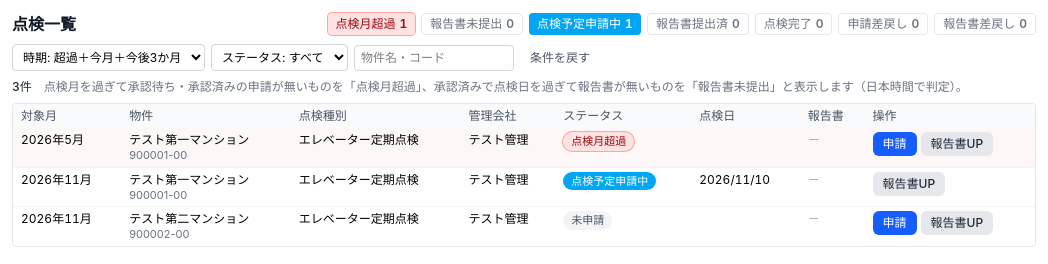
Test: 点検一覧（InspectionPortal） › ステータスの件数バッジを押すと、そのステータスの行だけになる
This screenshot has width=1048, height=264.
Expected: the heading "点検一覧" is shown, [12,12,76,36]
Expected: the number of rows with test id "schedule-row" is 3, [13,128,1035,167]; [13,167,1035,207]; [13,207,1035,246]
Click the button "点検月超過 1".
click(371, 24)  # box [328,13,415,35]
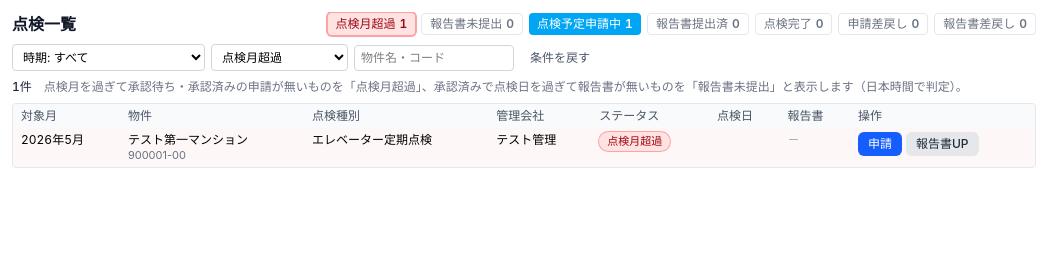
Expected: the number of rows with test id "schedule-row" is 1, [13,128,1035,167]
Expected: the text "点検月超過" is shown, [599,132,670,151]
Click the button "点検予定申請中 1".
click(585, 24)  # box [529,13,641,35]
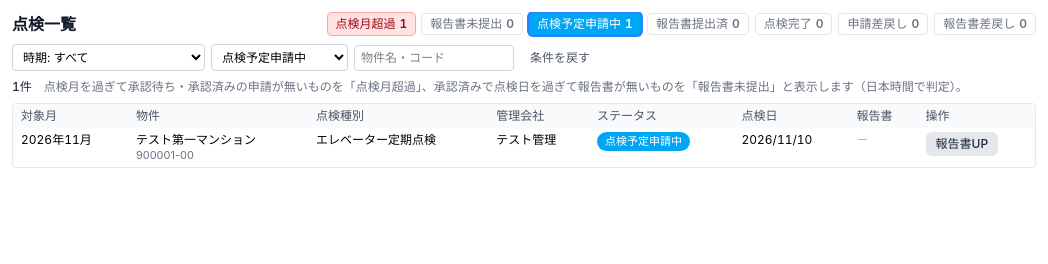
Result: the number of rows with test id "schedule-row" is 1 at [13,128,1035,167]
Result: the text "点検予定申請中" is shown at [597,132,690,151]
Note: もう一度押すと外れ、時期も既定に戻る
Click the button "点検予定申請中 1".
click(585, 24)  # box [529,13,641,35]
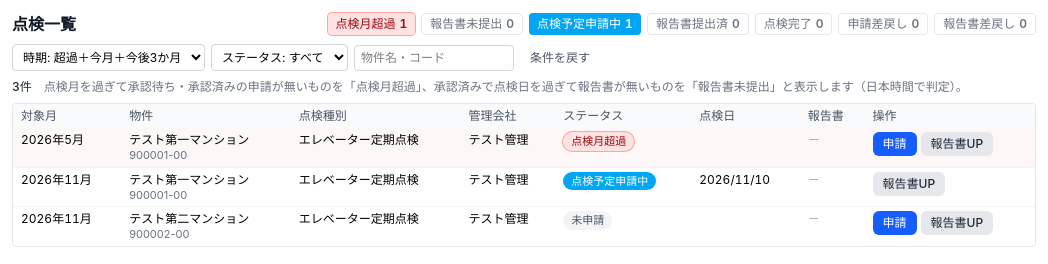
Result: the number of rows with test id "schedule-row" is 3 at [13,128,1035,167]; [13,167,1035,207]; [13,207,1035,246]
Result: the dropdown named "時期" shows "時期: 超過＋今月＋今後3か月" at [12,44,205,71]
